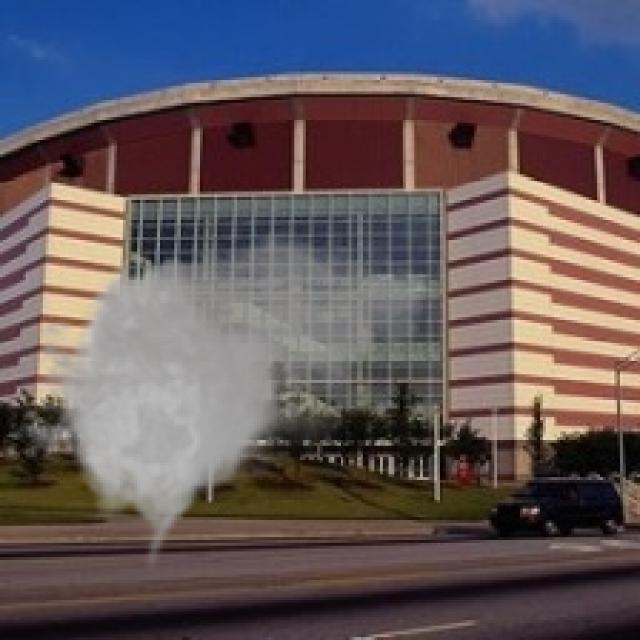Smoke: (9, 220, 432, 574)
